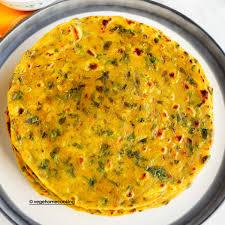thepla: (26, 25, 207, 198)
